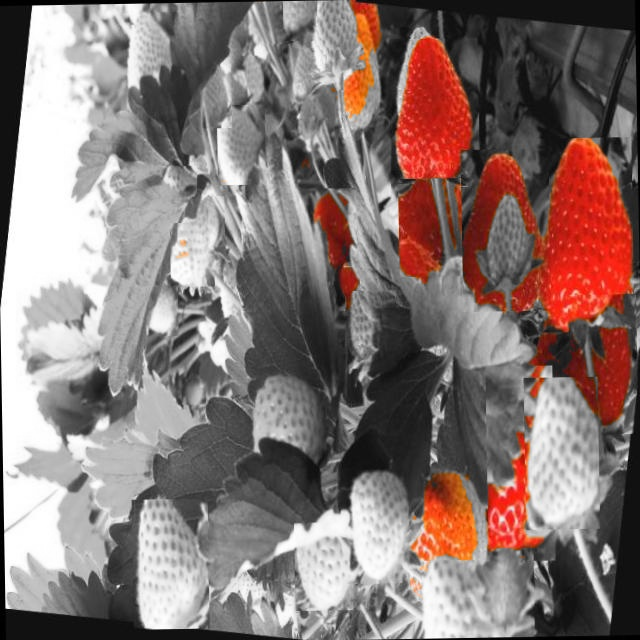ripe: (535, 136, 634, 332), (388, 37, 480, 201), (461, 148, 552, 312), (485, 365, 555, 561), (568, 293, 638, 434), (398, 178, 468, 276), (306, 187, 358, 272), (335, 260, 360, 310)
unripe: (523, 376, 600, 529), (131, 498, 209, 630), (248, 369, 332, 475), (340, 468, 410, 583), (422, 559, 504, 638), (473, 548, 535, 636), (294, 522, 354, 610), (122, 11, 177, 96), (309, 0, 357, 90), (344, 289, 396, 372), (216, 104, 266, 185), (293, 81, 339, 160), (170, 221, 214, 286), (194, 66, 232, 128), (188, 195, 226, 248), (242, 0, 284, 44), (288, 46, 320, 100), (146, 284, 179, 336), (280, 0, 318, 41), (232, 55, 264, 101), (160, 165, 197, 203), (118, 2, 150, 24), (182, 378, 206, 404), (90, 3, 120, 20)
